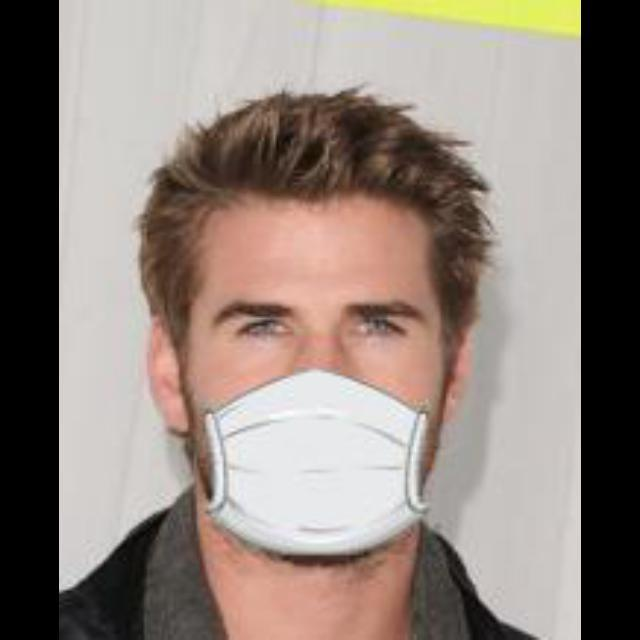suspicion: (128, 91, 480, 551)
